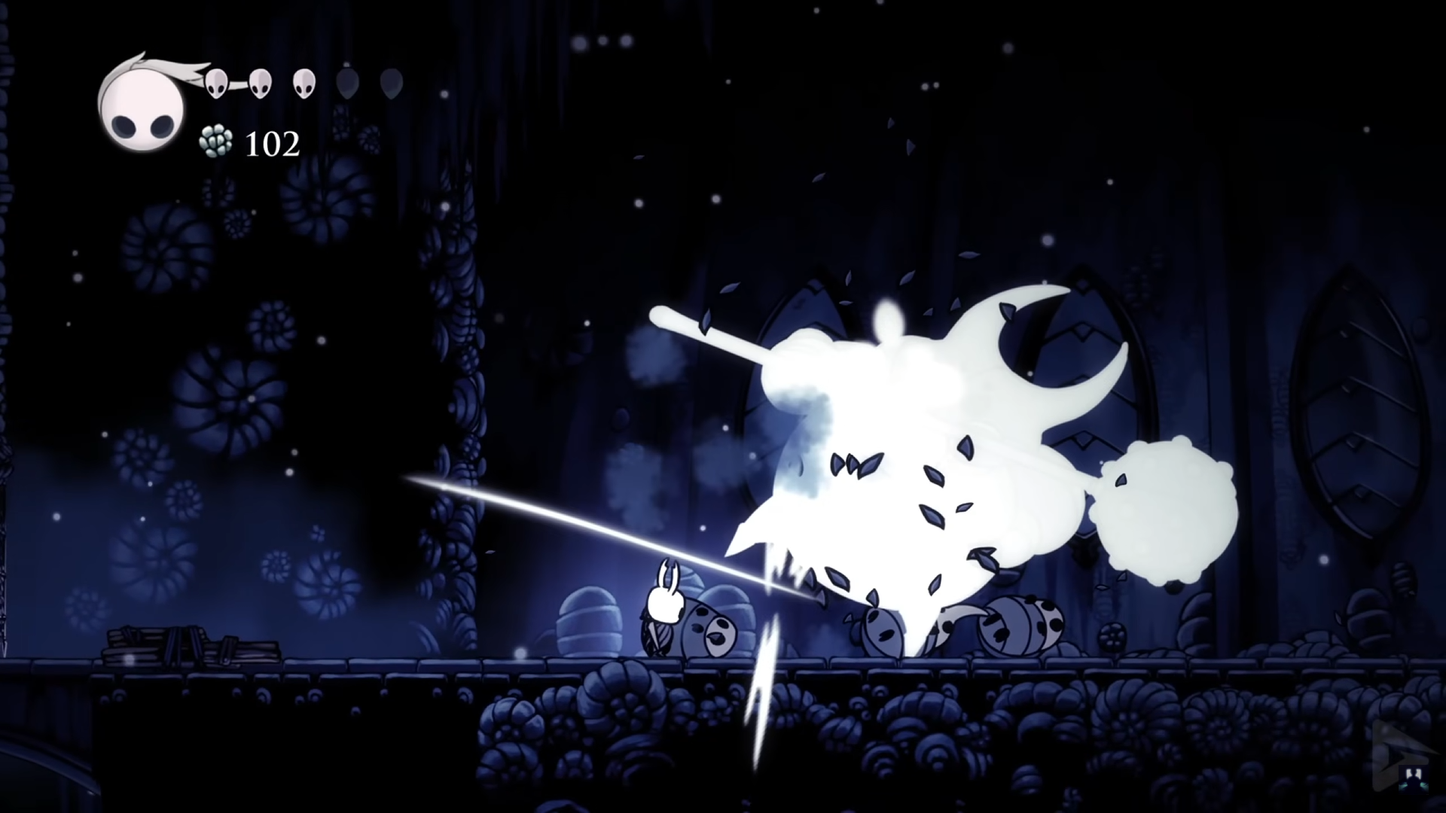HK: (637, 555, 692, 662)
